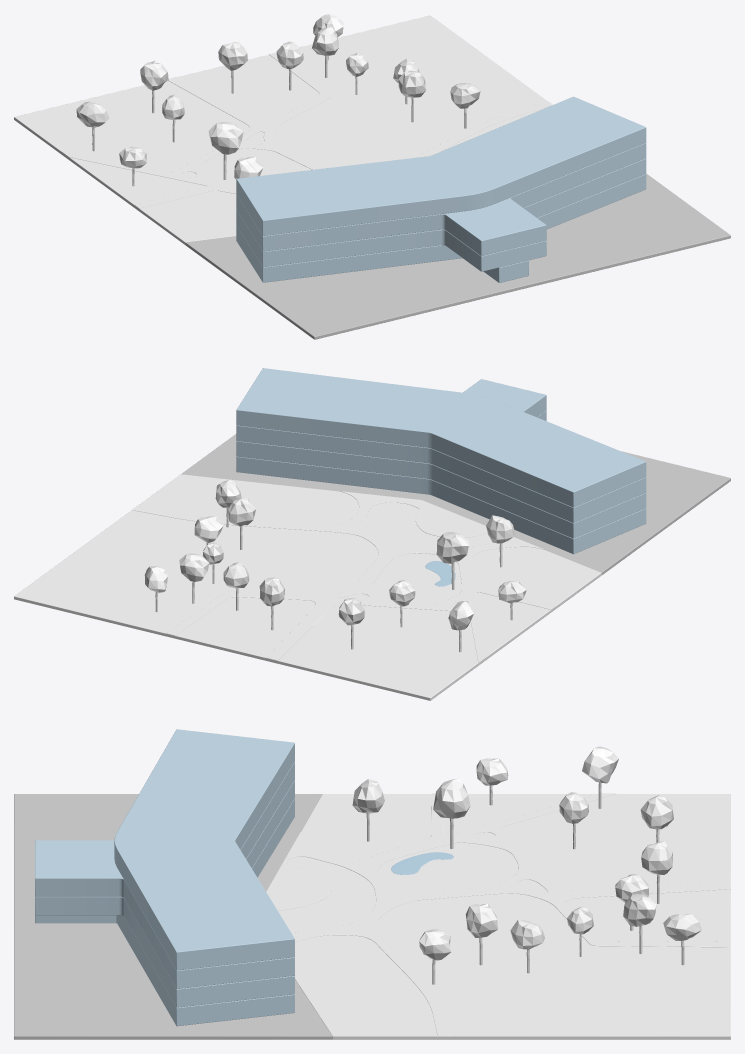
Rendered from campus_minimal_5.fbx.
3 views of the same model, one above another, from view 1: azimuth 30°, elevation 25°; view 2: azimuth 150°, elevation 25°; view 3: azimuth 270°, elevation 25° (orthographic). The views are drawn at different scales.
Parts seen in each view (by area): view 1: park, floor_3, building_base, floor_2, floor_1, floor_0, paths_Retopo, tree010, tree012, tree007, tree005, tree008 (+6 smaller); view 2: park, floor_3, paths_Retopo, building_base, floor_2, floor_1, floor_0, tree010, tree01, tree013, tree005, tree007 (+8 smaller); view 3: park, floor_3, building_base, paths_Retopo, floor_2, floor_1, floor_0, tree010, tree012, tree005, tree01, tree007 (+10 smaller).
Part boxes in pixels (x1=…): park: x1=14, y1=15, x2=547, y2=244; floor_3: x1=236, y1=96, x2=646, y2=235; building_base: x1=185, y1=173, x2=730, y2=339; floor_2: x1=236, y1=143, x2=646, y2=256; floor_1: x1=236, y1=158, x2=646, y2=271; floor_0: x1=236, y1=174, x2=646, y2=282; paths_Retopo: x1=62, y1=52, x2=552, y2=208; tree010: x1=208, y1=122, x2=243, y2=179; tree012: x1=76, y1=101, x2=109, y2=151; tree007: x1=218, y1=42, x2=247, y2=93; tree005: x1=398, y1=70, x2=426, y2=122; tree008: x1=140, y1=60, x2=168, y2=113; park: x1=14, y1=474, x2=601, y2=700; floor_3: x1=236, y1=368, x2=646, y2=507; paths_Retopo: x1=132, y1=491, x2=555, y2=662; building_base: x1=181, y1=434, x2=730, y2=574; floor_2: x1=236, y1=379, x2=646, y2=523; floor_1: x1=236, y1=410, x2=646, y2=538; floor_0: x1=236, y1=456, x2=646, y2=554; tree010: x1=436, y1=532, x2=468, y2=589; tree01: x1=179, y1=553, x2=209, y2=603; tree013: x1=486, y1=515, x2=514, y2=567; tree005: x1=228, y1=498, x2=255, y2=549; tree007: x1=259, y1=577, x2=284, y2=630; park: x1=278, y1=794, x2=730, y2=1039; floor_3: x1=114, y1=729, x2=294, y2=970; building_base: x1=14, y1=794, x2=332, y2=1039; paths_Retopo: x1=266, y1=793, x2=730, y2=1035; floor_2: x1=35, y1=761, x2=294, y2=988; floor_1: x1=35, y1=780, x2=294, y2=1007; floor_0: x1=35, y1=798, x2=294, y2=1026; tree010: x1=433, y1=778, x2=470, y2=849; tree012: x1=582, y1=746, x2=618, y2=808; tree005: x1=465, y1=903, x2=497, y2=965; tree01: x1=623, y1=894, x2=656, y2=953; tree007: x1=641, y1=841, x2=672, y2=903.
Size of the model in its own units: 110 by 16.53 by 138.
